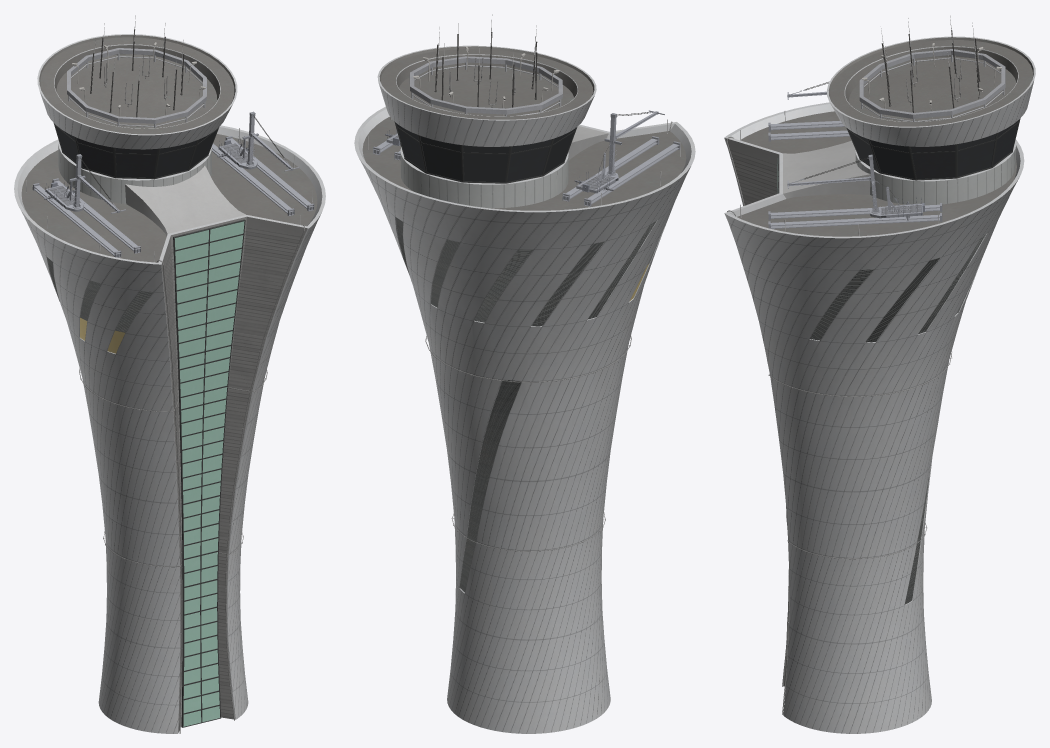
The model's file is control_tower_san_francisco.glb.
3 views of the same model, side by side, from view 1: azimuth 30°, elevation 25°; view 2: azimuth 150°, elevation 25°; view 3: azimuth 270°, elevation 25° (orthographic). The views are drawn at different scales.
Visible parts, largest first — view 1: KSFO_Control _Tower; view 2: KSFO_Control _Tower; view 3: KSFO_Control _Tower.
Boxes of the visible parts, x1,y1,x2,y2 form: KSFO_Control _Tower: (14,15,325,733); KSFO_Control _Tower: (354,14,695,733); KSFO_Control _Tower: (724,15,1035,733).
Size of the model in its own units: 25.11 by 56.96 by 23.91.
2 materials, 2 textured.
